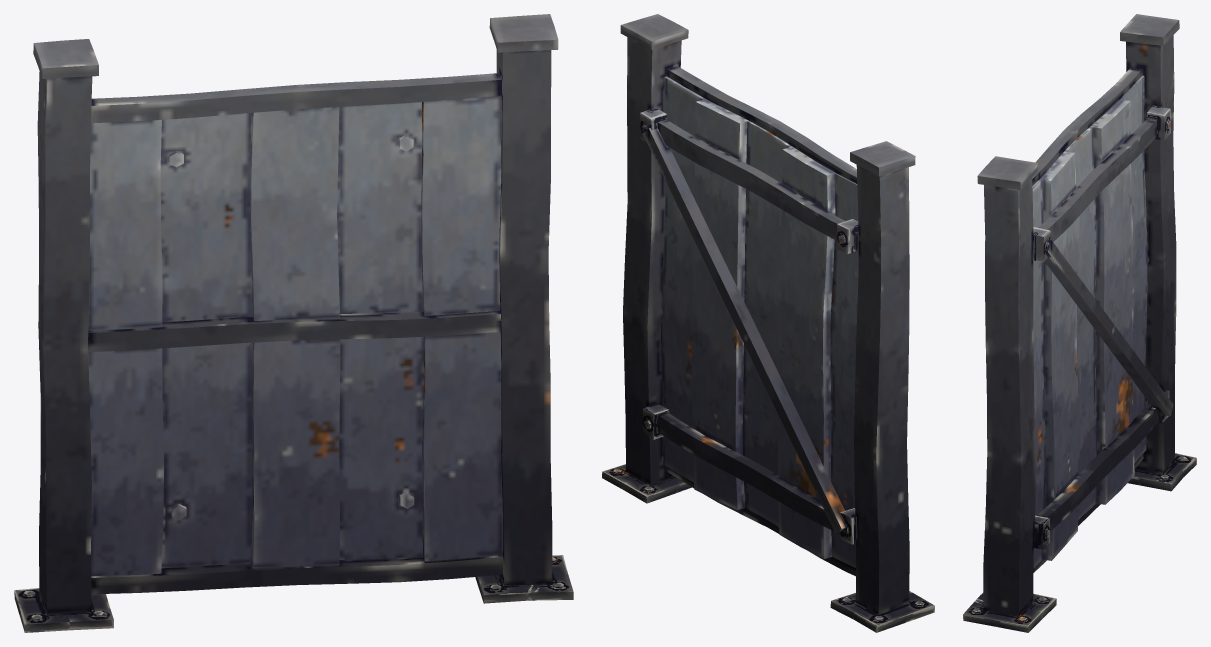
The picture shows the model from 3 angles, left to right: view 1: azimuth 30°, elevation 25°; view 2: azimuth 150°, elevation 25°; view 3: azimuth 270°, elevation 25°; orthographic projection. The views are drawn at different scales.
Visible parts, largest first — view 1: Sheets, Posts, Fittings; view 2: Posts, Sheets, Fittings; view 3: Posts, Sheets, Fittings.
Boxes of the visible parts, x1,y1,x2,y2 form: Sheets: (88,96,502,575); Posts: (33,14,558,614); Fittings: (14,555,573,632); Posts: (620,14,915,614); Sheets: (661,76,858,567); Fittings: (602,108,934,632); Posts: (977,14,1179,616); Sheets: (1032,75,1147,568); Fittings: (963,105,1196,632).
Size of the model in its own units: 7.07 by 8.01 by 3.79.
Materials: 3 (3 with a texture image).
